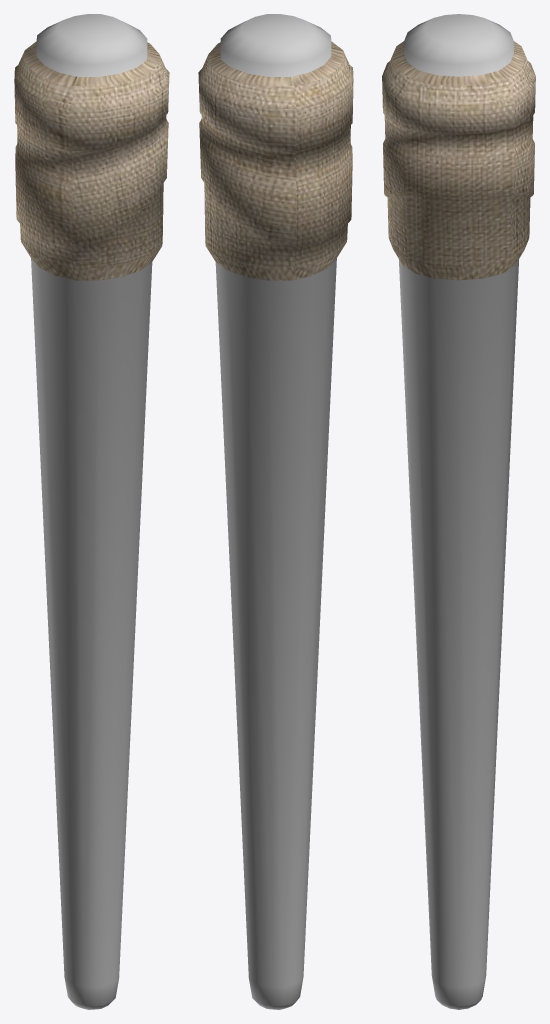
The model's file is RagTorch.fbx.
The picture shows the model from 3 angles, left to right: view 1: azimuth 30°, elevation 25°; view 2: azimuth 150°, elevation 25°; view 3: azimuth 270°, elevation 25°; orthographic projection.
Parts seen in each view (by area): view 1: Torch; view 2: Torch; view 3: Torch.
Part boxes in pixels (box(x1,y1,x2,y2)): Torch: box(14, 14, 169, 1009); Torch: box(198, 14, 353, 1009); Torch: box(382, 14, 535, 1009).
Size of the model in its own units: 45.16 by 317 by 45.16.
